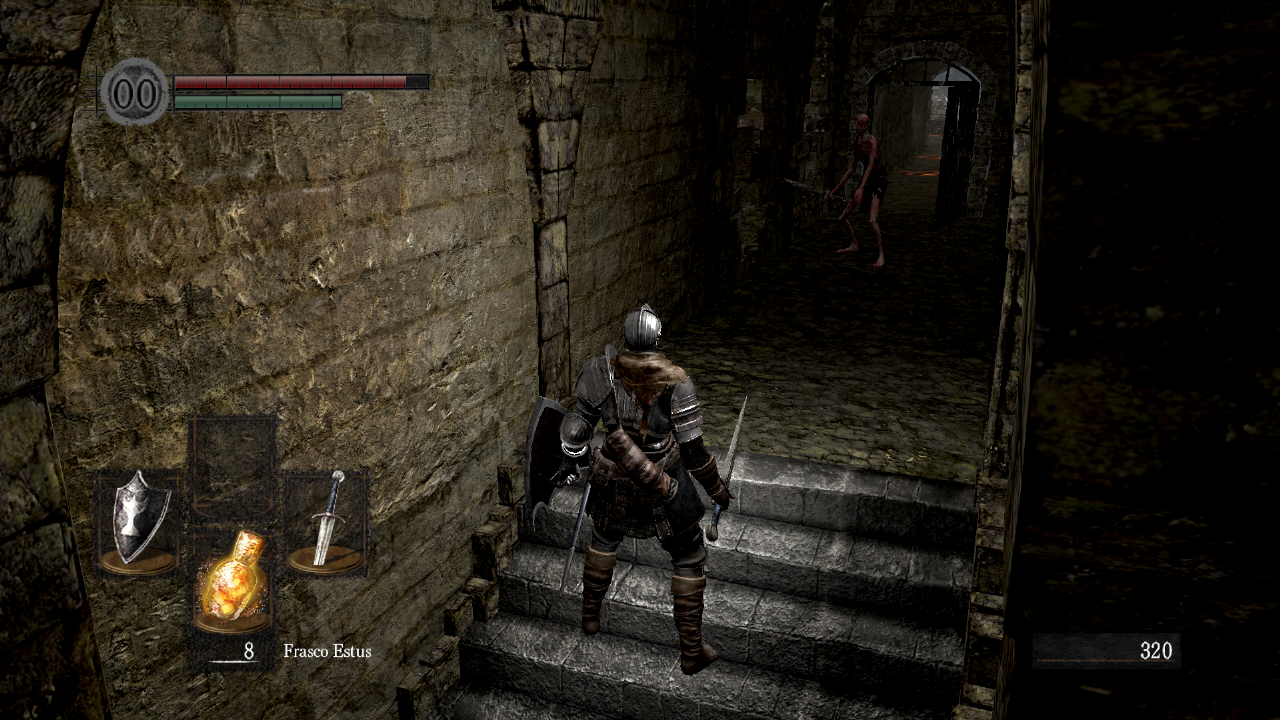hollow: (784, 114, 889, 268)
player: (523, 302, 749, 676)
